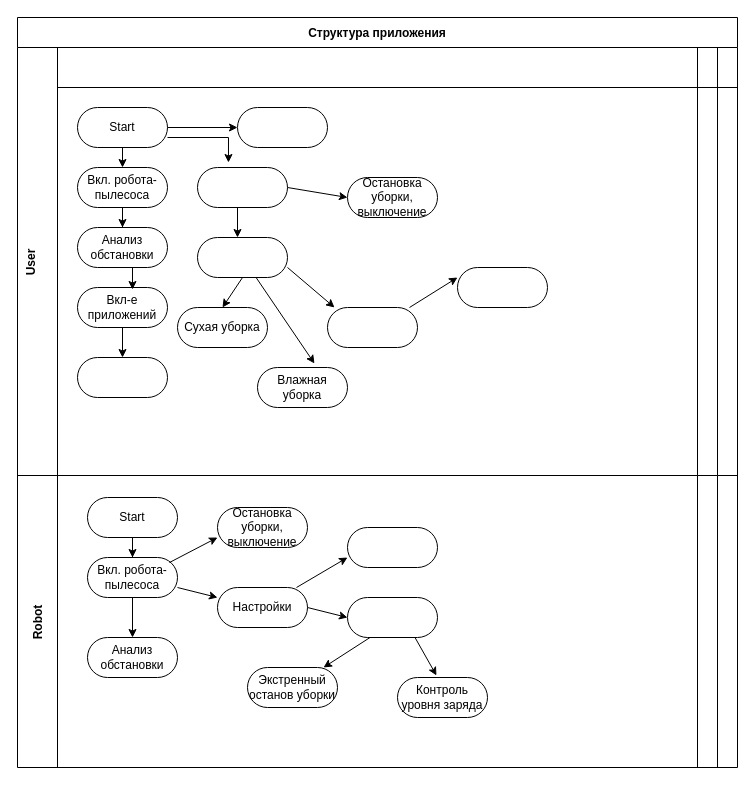
Image size: 755x785. Some labels were removed from this diagram. The shapes that lost their labels are listed below. From the top down, each one's box as (x1, y1, x2, y2) in pixels, then its label:
(236, 106, 328, 148): Запрос на выполнение уборки
(196, 166, 288, 208): Управление роботом
(196, 236, 288, 278): Выбор режима уборки
(456, 266, 548, 308): Уборка по расписанию
(326, 306, 418, 348): Автоматическая уборка
(76, 356, 168, 398): Проверка обновлений
(346, 526, 438, 568): Wi-Fi
(346, 596, 438, 638): Запуск по расписанию
